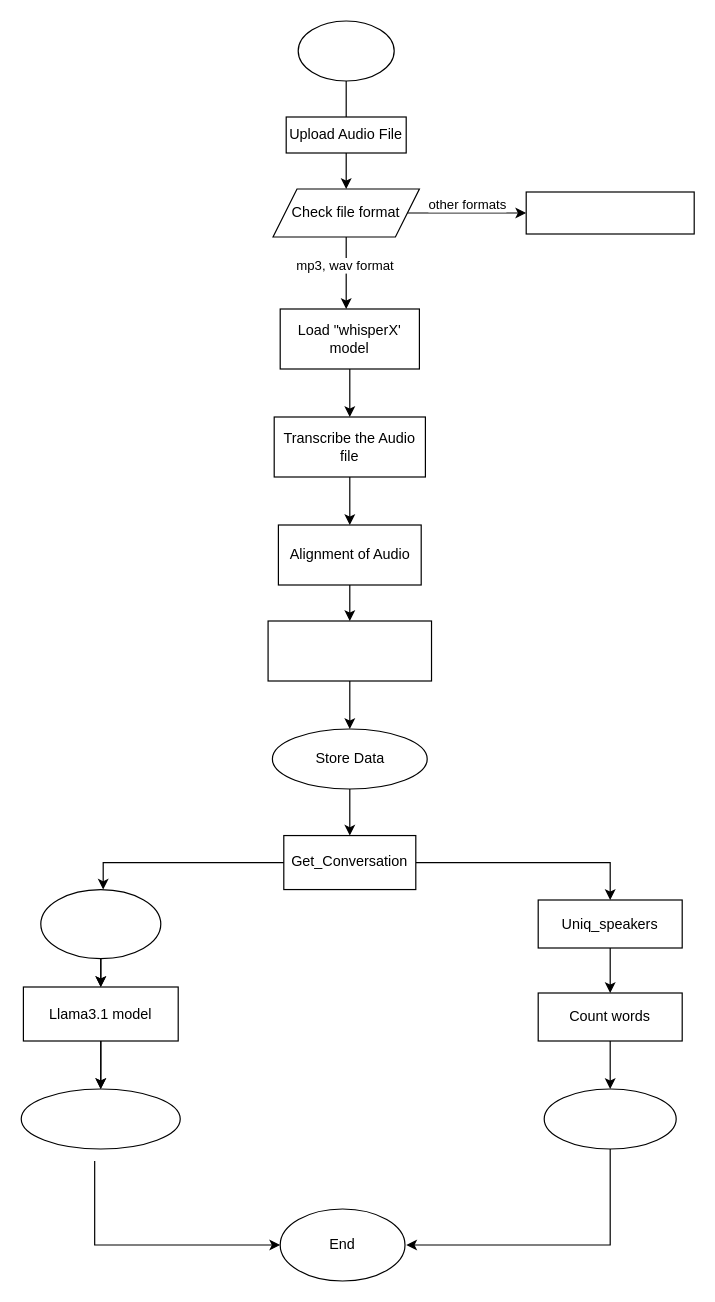
Image size: 715x1302. Some labels were removed from this diagram. The shapes that lost their labels are listed below. From the top down, each one's box as (x1, y1, x2, y2) in pixels, then its label:
(297, 20, 394, 81): Start
(525, 191, 694, 234): Please upload only mp3, wav files
(267, 620, 432, 681): Diarizing audio
(40, 888, 161, 959): Transcritpion
(20, 1088, 180, 1149): Get Summary
(543, 1088, 676, 1149): Get Stats
